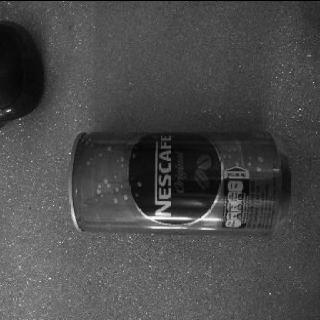alumunium_can: (66, 128, 290, 236)
